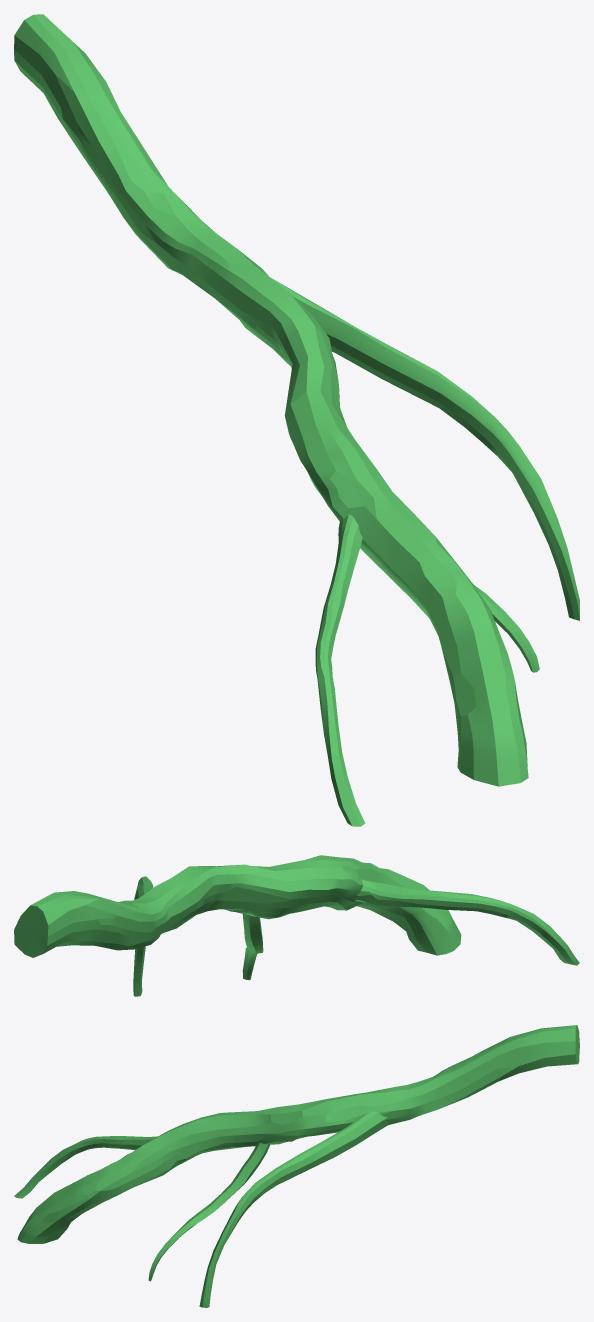
The model's file is jungle_trunk_ground_A.fbx.
The picture shows the model from 3 angles, top to bottom: view 1: azimuth 30°, elevation 25°; view 2: azimuth 150°, elevation 25°; view 3: azimuth 270°, elevation 25°; orthographic projection. The views are drawn at different scales.
Visible parts, largest first — view 1: jungle_trunk_ground_A, jungle_trunk_ground_A_branch_B, jungle_trunk_ground_A_branch_A, jungle_trunk_ground_A_branch_C; view 2: jungle_trunk_ground_A, jungle_trunk_ground_A_branch_A, jungle_trunk_ground_A_branch_C, jungle_trunk_ground_A_branch_B; view 3: jungle_trunk_ground_A, jungle_trunk_ground_A_branch_B, jungle_trunk_ground_A_branch_A, jungle_trunk_ground_A_branch_C.
Boxes of the visible parts, x1,y1,x2,y2 form: jungle_trunk_ground_A: (14, 14, 528, 786); jungle_trunk_ground_A_branch_B: (270, 277, 579, 620); jungle_trunk_ground_A_branch_A: (315, 514, 365, 826); jungle_trunk_ground_A_branch_C: (474, 585, 539, 672); jungle_trunk_ground_A: (14, 855, 461, 957); jungle_trunk_ground_A_branch_A: (353, 879, 579, 965); jungle_trunk_ground_A_branch_C: (242, 914, 263, 980); jungle_trunk_ground_A_branch_B: (133, 876, 153, 996); jungle_trunk_ground_A: (17, 1025, 579, 1243); jungle_trunk_ground_A_branch_B: (199, 1111, 388, 1307); jungle_trunk_ground_A_branch_A: (14, 1136, 157, 1198); jungle_trunk_ground_A_branch_C: (148, 1143, 270, 1281).
Size of the model in its own units: 530 by 519 by 1178.
